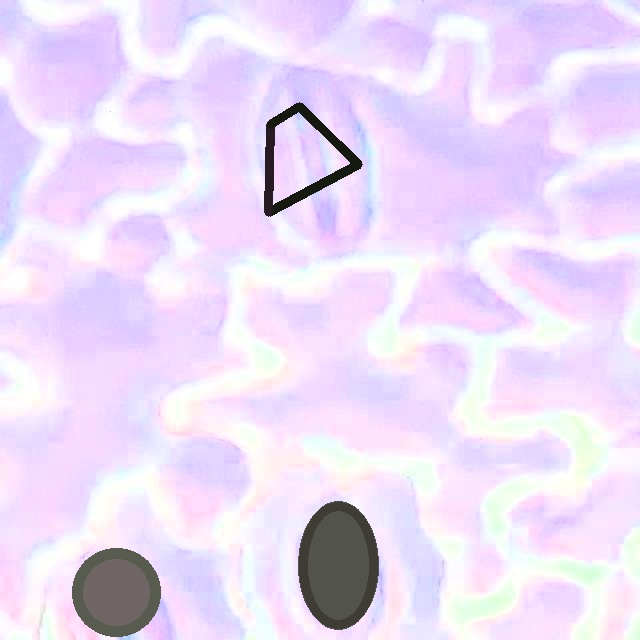open: (266, 103, 361, 216), (298, 501, 378, 628), (73, 549, 160, 635)
